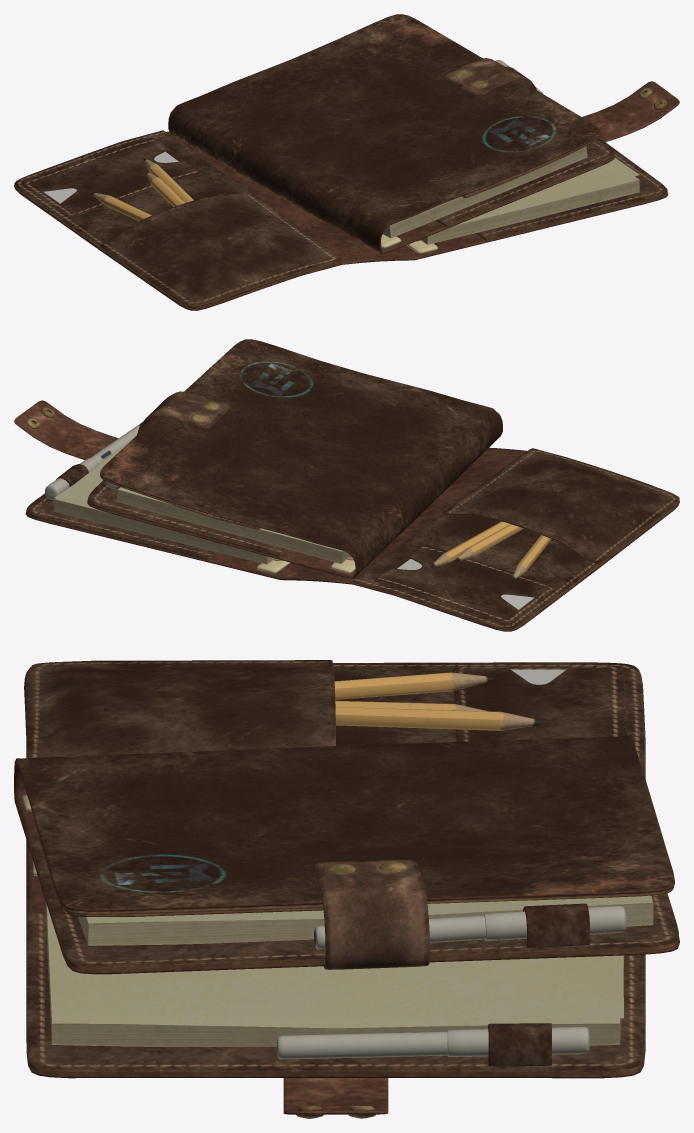
File: binder_notebook.glb
3 renders of one model, top to bottom at view 1: azimuth 30°, elevation 25°; view 2: azimuth 150°, elevation 25°; view 3: azimuth 270°, elevation 25°, orthographic. The views are drawn at different scales.
Visible parts, largest first — view 1: closed, opened; view 2: closed, opened; view 3: closed, opened.
Part boxes in pixels (left/top/right/bottom): closed: left=168, top=14, right=615, bottom=253; opened: left=14, top=60, right=679, bottom=310; closed: left=87, top=339, right=502, bottom=578; opened: left=14, top=400, right=679, bottom=631; closed: left=14, top=735, right=679, bottom=974; opened: left=24, top=660, right=645, bottom=1118.
Bounding box in the file's own units: 0.3652 × 0.0464 × 0.2142.
Materials: 1 (1 with a texture image).
